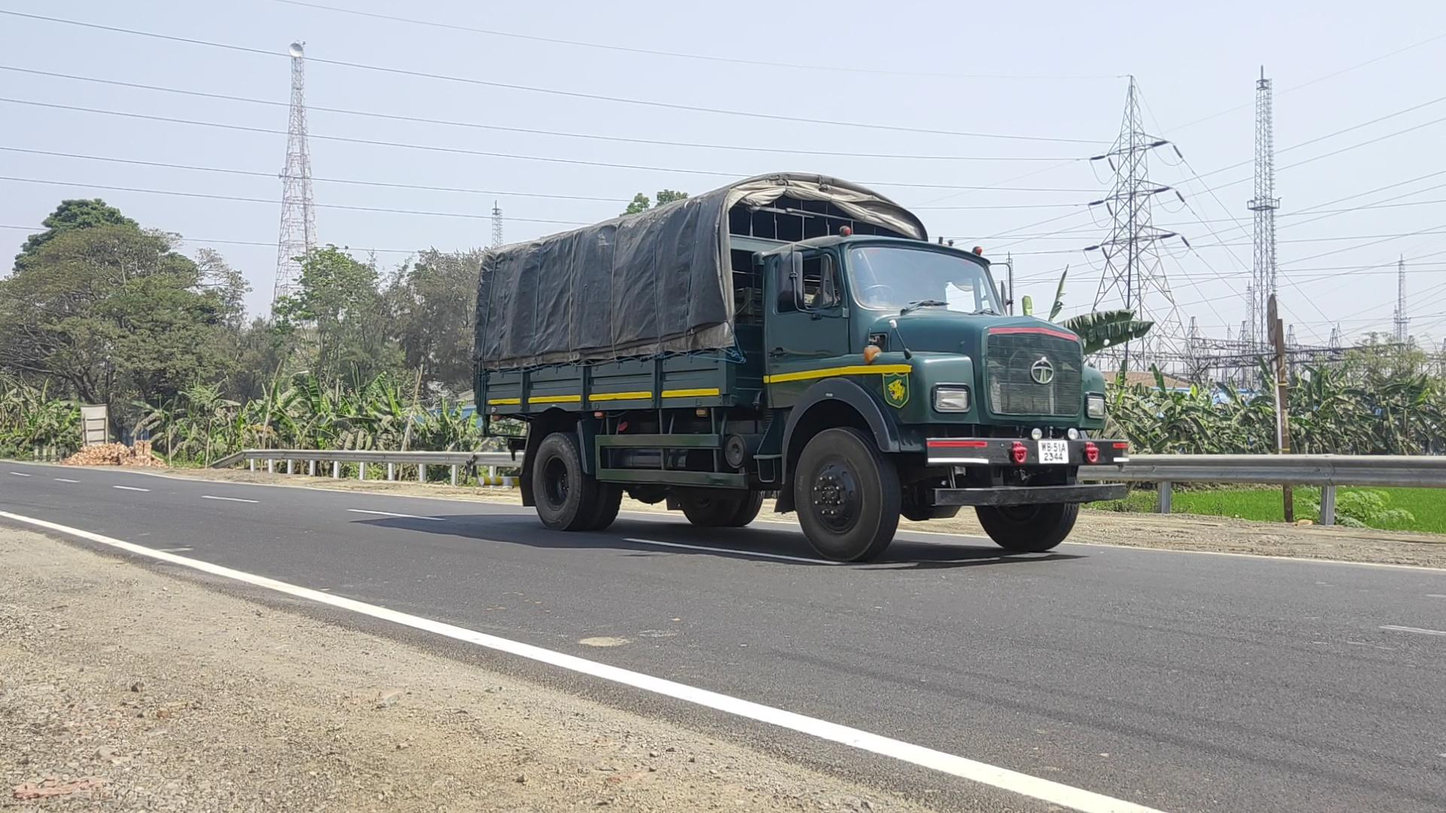truck: (472, 171, 1130, 565)
